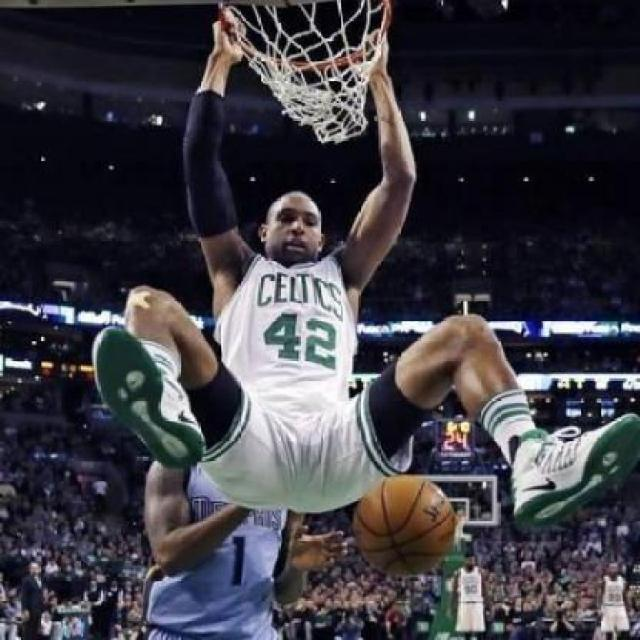basketball: (356, 476, 458, 576)
